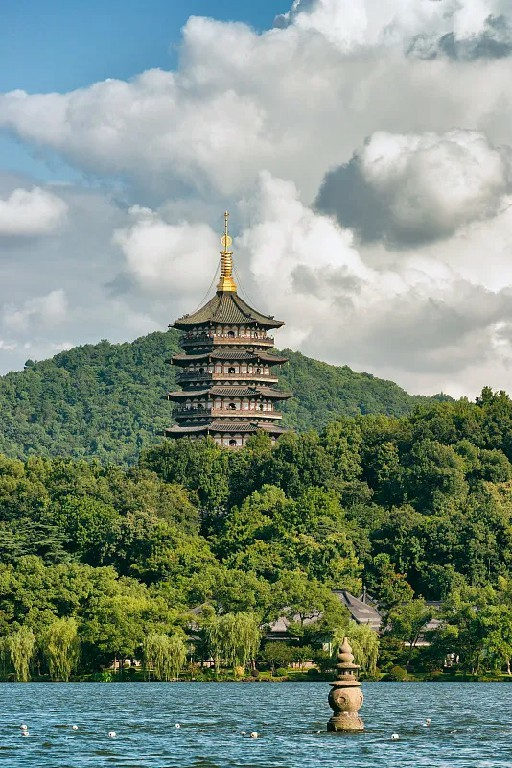Leifeng: (161, 210, 295, 460)
